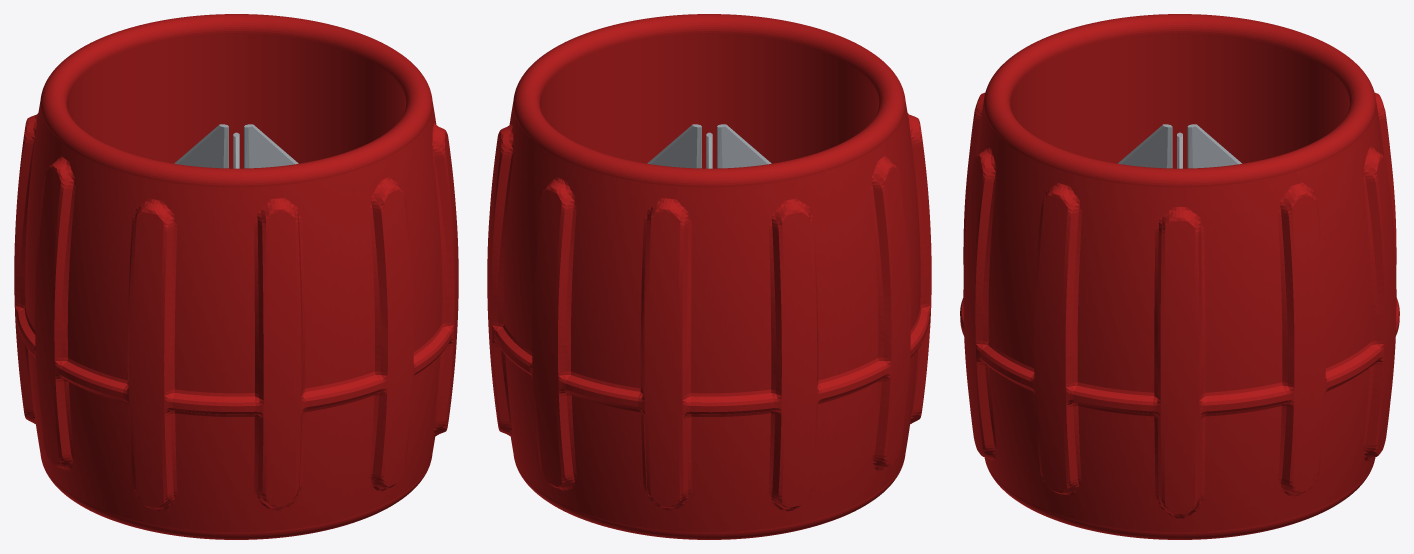
3 views of the same model, side by side, from view 1: azimuth 30°, elevation 25°; view 2: azimuth 150°, elevation 25°; view 3: azimuth 270°, elevation 25° (orthographic).
Parts seen in each view (by area): view 1: Molded grip shell, Cutting blade 2, Cutting blade 1; view 2: Molded grip shell, Cutting blade 3, Cutting blade 1; view 3: Molded grip shell, Cutting blade 2, Cutting blade 3.
Part boxes in pixels (x1,y1,x2,y2): Molded grip shell: (14, 14, 458, 539); Cutting blade 2: (174, 124, 228, 168); Cutting blade 1: (244, 124, 298, 168); Molded grip shell: (487, 14, 931, 539); Cutting blade 3: (717, 124, 771, 168); Cutting blade 1: (647, 124, 701, 168); Molded grip shell: (960, 14, 1399, 539); Cutting blade 2: (1187, 124, 1241, 168); Cutting blade 3: (1118, 124, 1172, 168).
Bounding box in the file's own units: 0.0666 × 0.061 × 0.0659.
